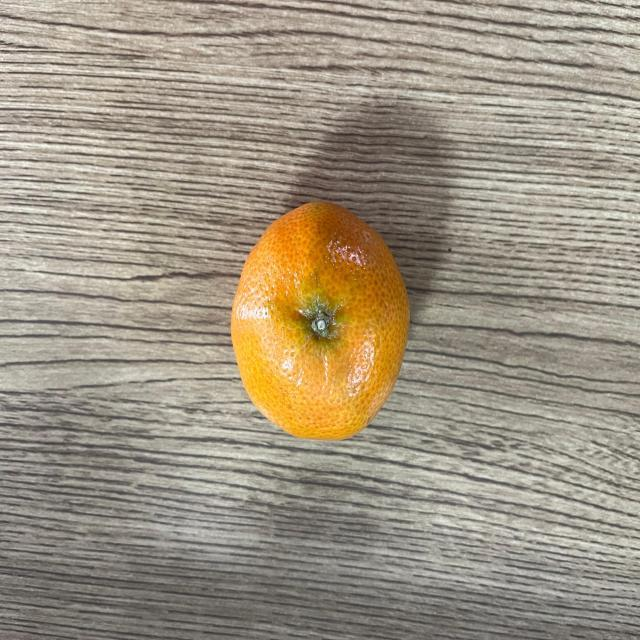Jeruk Mandarin: (228, 194, 412, 446)
